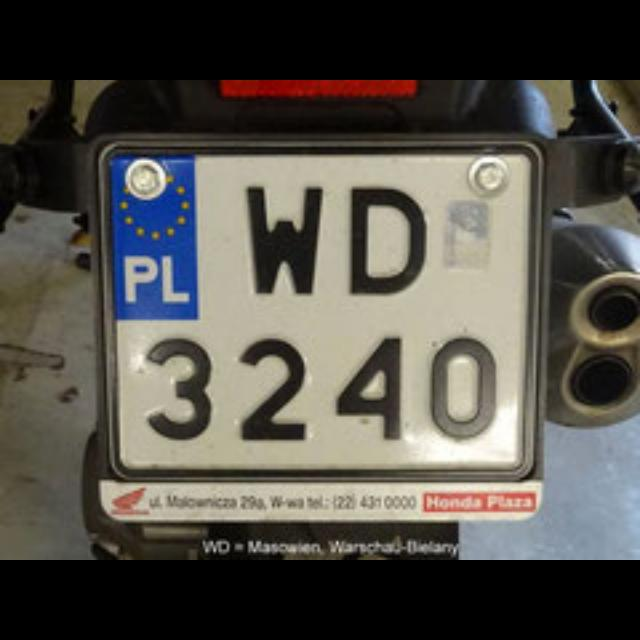pl_license_plate: (112, 152, 520, 466)
